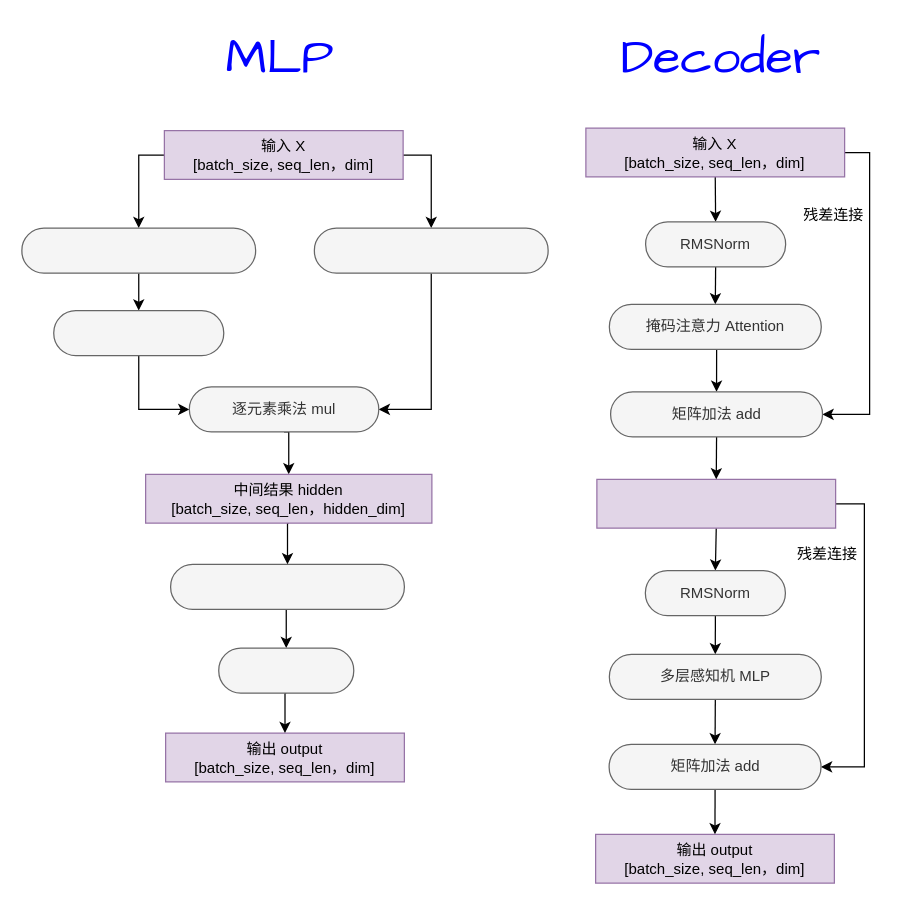
This 903x905 diagram has some shape labels left out. Each missing label, with the centre of its shape:
"dropout" belongs at (x=286, y=670).
"silu激活函数" belongs at (x=138, y=332).
"中间结果 hidden [ batch_size, seq_len，dim ]" belongs at (x=716, y=503).
"线性变换1 [dim, hidden_dim]" belongs at (x=138, y=250).
"线性变换2 [dim, hidden_dim]" belongs at (x=430, y=250).
"线性变换3 [hidden_dim, dim]" belongs at (x=286, y=586).
